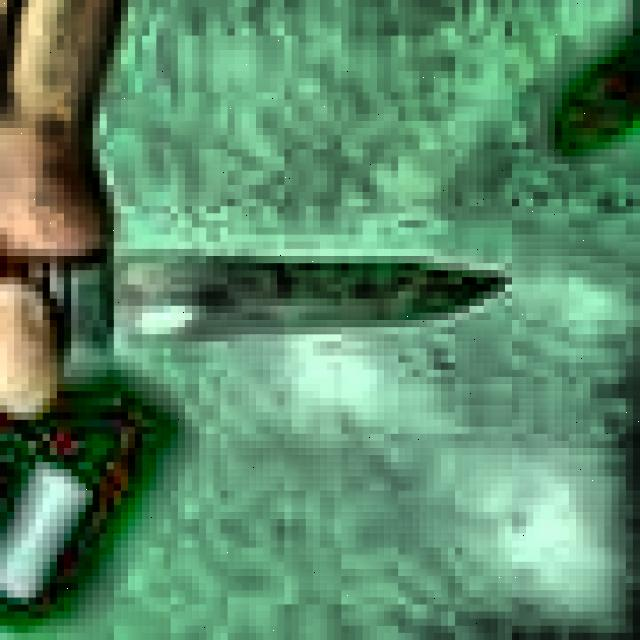knife: (2, 256, 509, 332)
